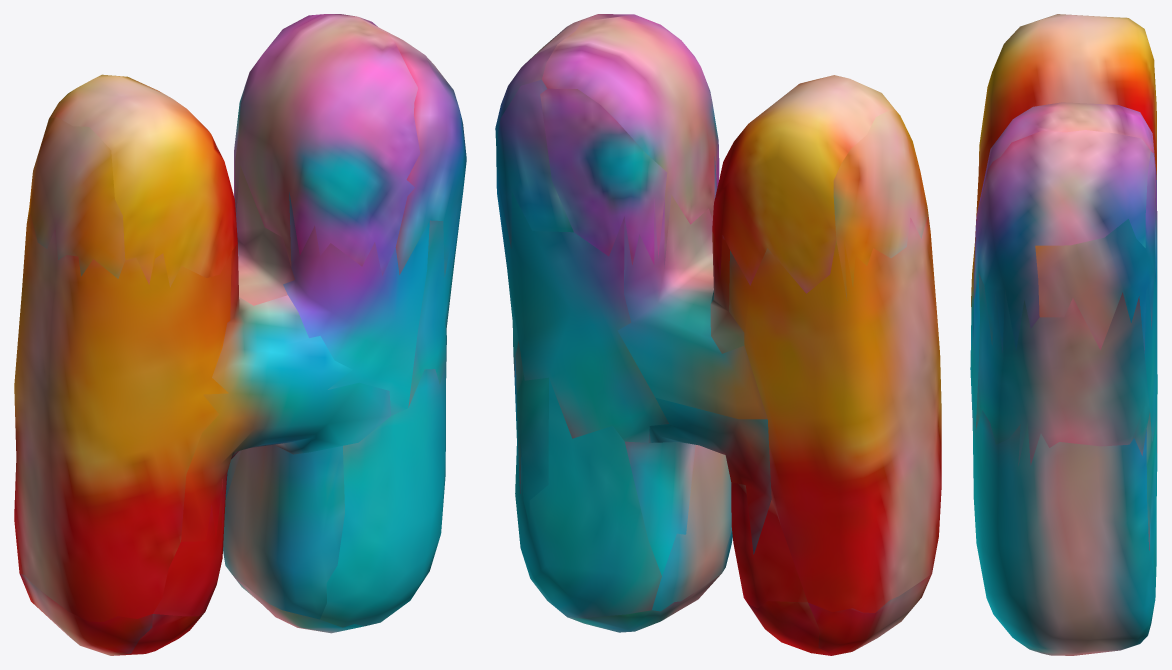
3 views of the same model, side by side, from view 1: azimuth 30°, elevation 25°; view 2: azimuth 150°, elevation 25°; view 3: azimuth 270°, elevation 25° (orthographic). The views are drawn at different scales.
Visible parts, largest first — view 1: Candy-Letter-H; view 2: Candy-Letter-H; view 3: Candy-Letter-H.
Part boxes in pixels (x1=…): Candy-Letter-H: x1=14, y1=14, x2=466, y2=655; Candy-Letter-H: x1=495, y1=14, x2=941, y2=655; Candy-Letter-H: x1=970, y1=14, x2=1157, y2=655.
Size of the model in its own units: 0.2627 by 0.3583 by 0.1116.
Materials: 1 (1 with a texture image).
